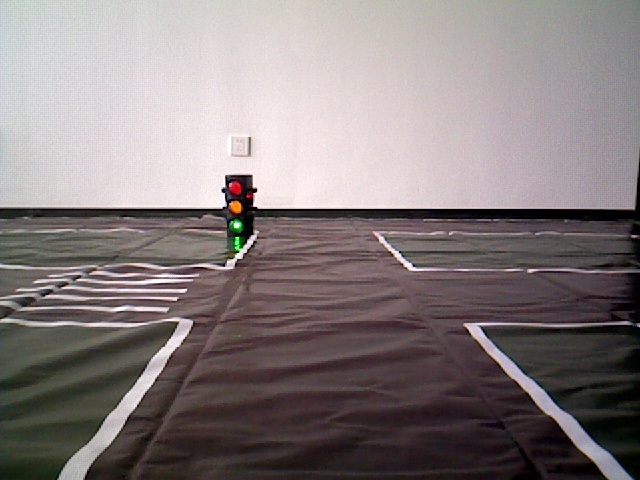green: (227, 178, 252, 230)
